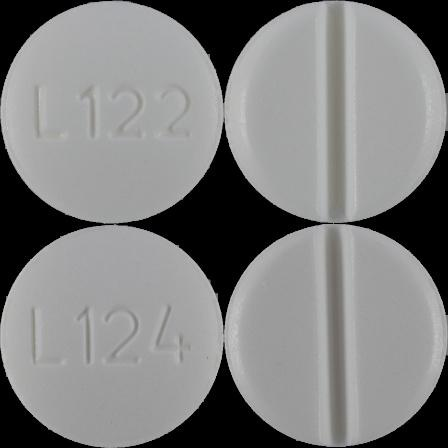63739-516: (0, 0, 224, 224)
